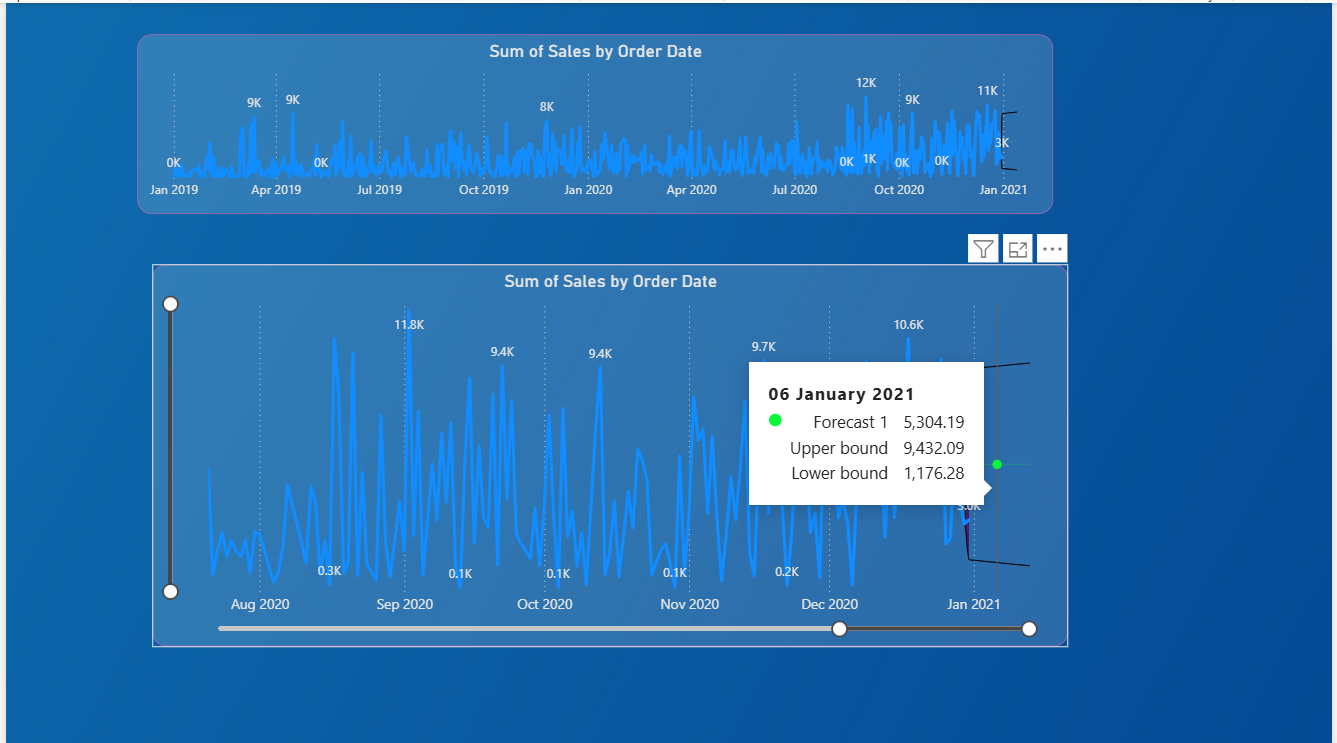

What the dashboard file says about the page in this screenshot:
{"tool":"powerbi","page":{"name":"Page 2","canvas":[1280,720],"ordinal":1},"visuals":[{"type":"lineChart","fields":{"Y":["Sum(SuperStore_Sales_Dataset (2).Sales)"],"Category":["SuperStore_Sales_Dataset (2).Order Date"]},"box":[141.2,252.5,883.8,368.8],"z":0},{"type":"lineChart","fields":{"Y":["Sum(SuperStore_Sales_Dataset (2).Sales)"],"Category":["SuperStore_Sales_Dataset (2).Order Date"]},"box":[126.2,30,883.8,173.8],"z":1000}]}

Visuals, with their boxes in screenshot pixels (x1, y1, x2, y2), scaled from the page's 1280x720 canvas onto the 1337x743 screenshot:
lineChart - Sum(SuperStore_Sales_Dataset (2).Sales) x SuperStore_Sales_Dataset (2).Order Date: Rect(147, 261, 1071, 641)
lineChart - Sum(SuperStore_Sales_Dataset (2).Sales) x SuperStore_Sales_Dataset (2).Order Date: Rect(132, 31, 1055, 210)
